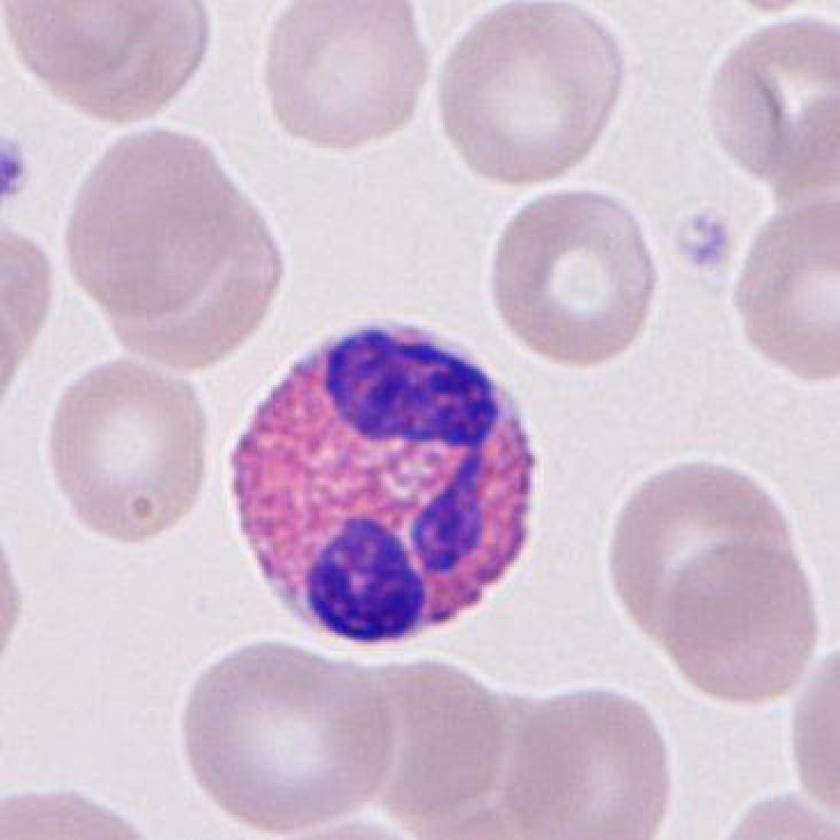eosinophil: (219, 315, 547, 659)
